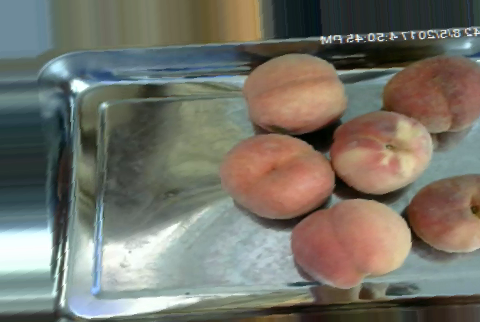Peach: (292, 198, 413, 288), (220, 132, 334, 221), (329, 108, 435, 195), (243, 52, 348, 135), (372, 51, 475, 134), (408, 170, 479, 254)
